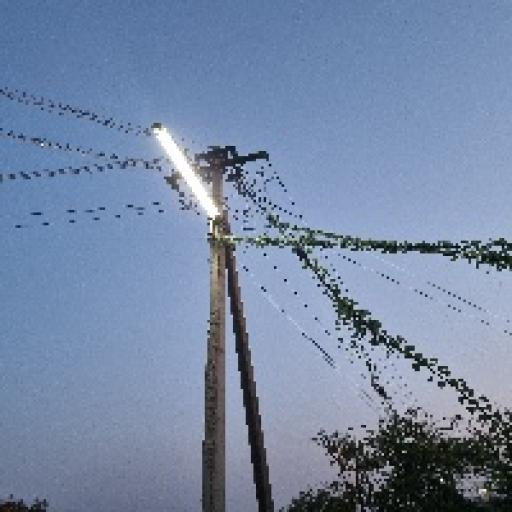Working: (147, 120, 240, 230)
